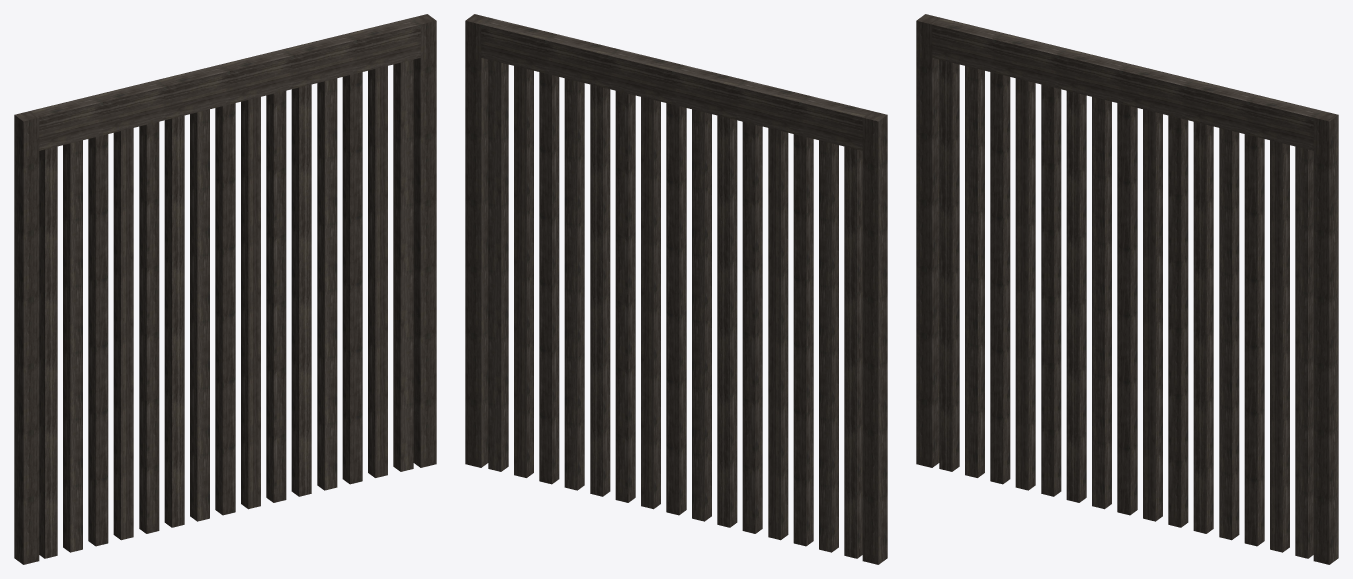
Rendered from es-slit60_h2000_blackebony.fbx.
3 views of the same model, side by side, from view 1: azimuth 30°, elevation 25°; view 2: azimuth 150°, elevation 25°; view 3: azimuth 330°, elevation 25° (orthographic).
Visible parts, largest first — view 1: es-slit60_h2000_blackebony; view 2: es-slit60_h2000_blackebony; view 3: es-slit60_h2000_blackebony.
Part boxes in pixels (x1=…): es-slit60_h2000_blackebony: x1=14, y1=14, x2=436, y2=564; es-slit60_h2000_blackebony: x1=465, y1=14, x2=887, y2=564; es-slit60_h2000_blackebony: x1=916, y1=14, x2=1338, y2=564.
Bounding box in the file's own units: 195 × 200 × 7.5.
1 material, 1 textured.
